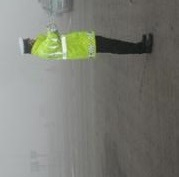person: (16, 25, 156, 61)
